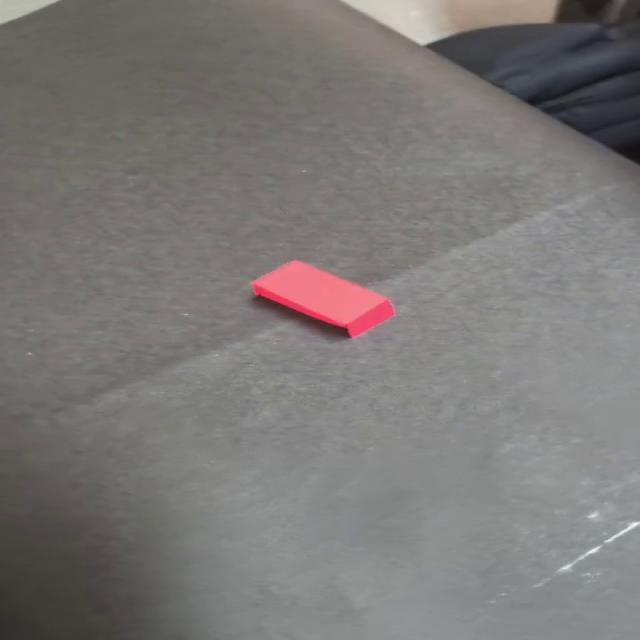red block: (248, 259, 396, 338)
